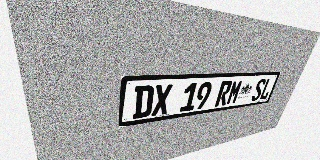1: (179, 82, 200, 112)
9: (194, 82, 213, 110)
D: (132, 85, 155, 119)
L: (259, 78, 275, 100)
M: (226, 80, 244, 105)
R: (214, 81, 233, 107)
S: (250, 79, 267, 101)
X: (151, 84, 173, 116)
